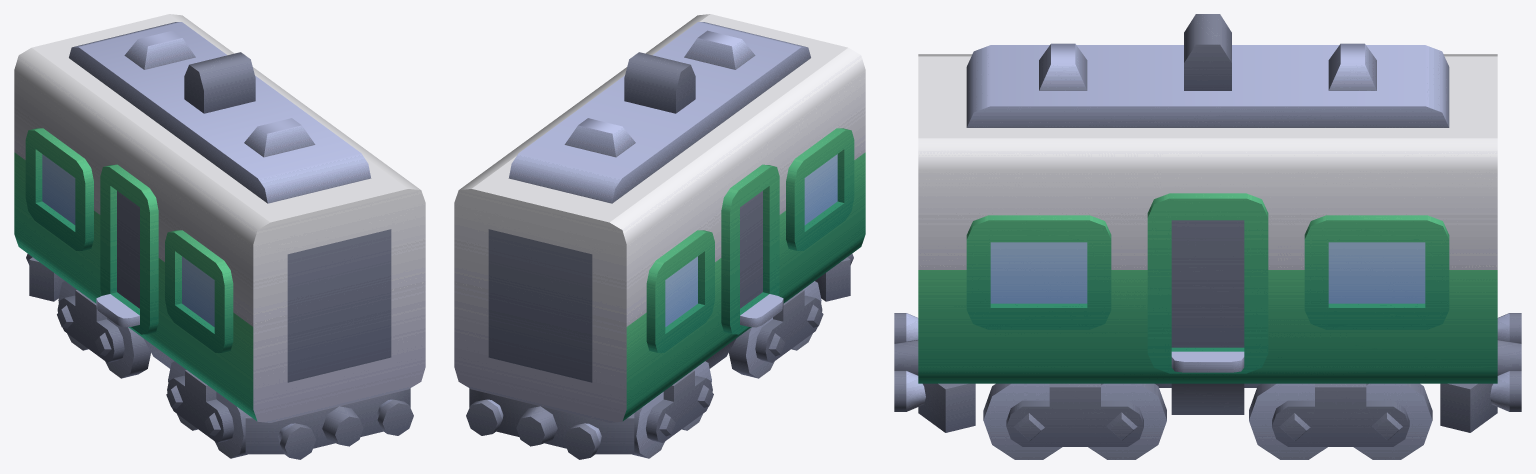
File: train-electric-square-b.glb
3 renders of one model, left to right at view 1: azimuth 30°, elevation 25°; view 2: azimuth 150°, elevation 25°; view 3: azimuth 270°, elevation 25°, orthographic. The views are drawn at different scales.
Visible parts, largest first — view 1: train-electric-square-b, wheels-back, wheels-front; view 2: train-electric-square-b, wheels-front, wheels-back; view 3: train-electric-square-b, wheels-back, wheels-front.
Part boxes in pixels (left/top/right/bottom): train-electric-square-b: left=14, top=14, right=425, bottom=459; wheels-back: left=57, top=281, right=150, bottom=378; wheels-front: left=166, top=361, right=247, bottom=458; train-electric-square-b: left=454, top=14, right=865, bottom=459; wheels-front: left=729, top=281, right=823, bottom=378; wheels-back: left=632, top=361, right=713, bottom=458; train-electric-square-b: left=894, top=14, right=1521, bottom=432; wheels-back: left=1249, top=383, right=1432, bottom=459; wheels-front: left=983, top=383, right=1166, bottom=459.
Bounding box in the file's own units: 1.3 × 1.78 × 2.6.
Materials: 1 (1 with a texture image).
